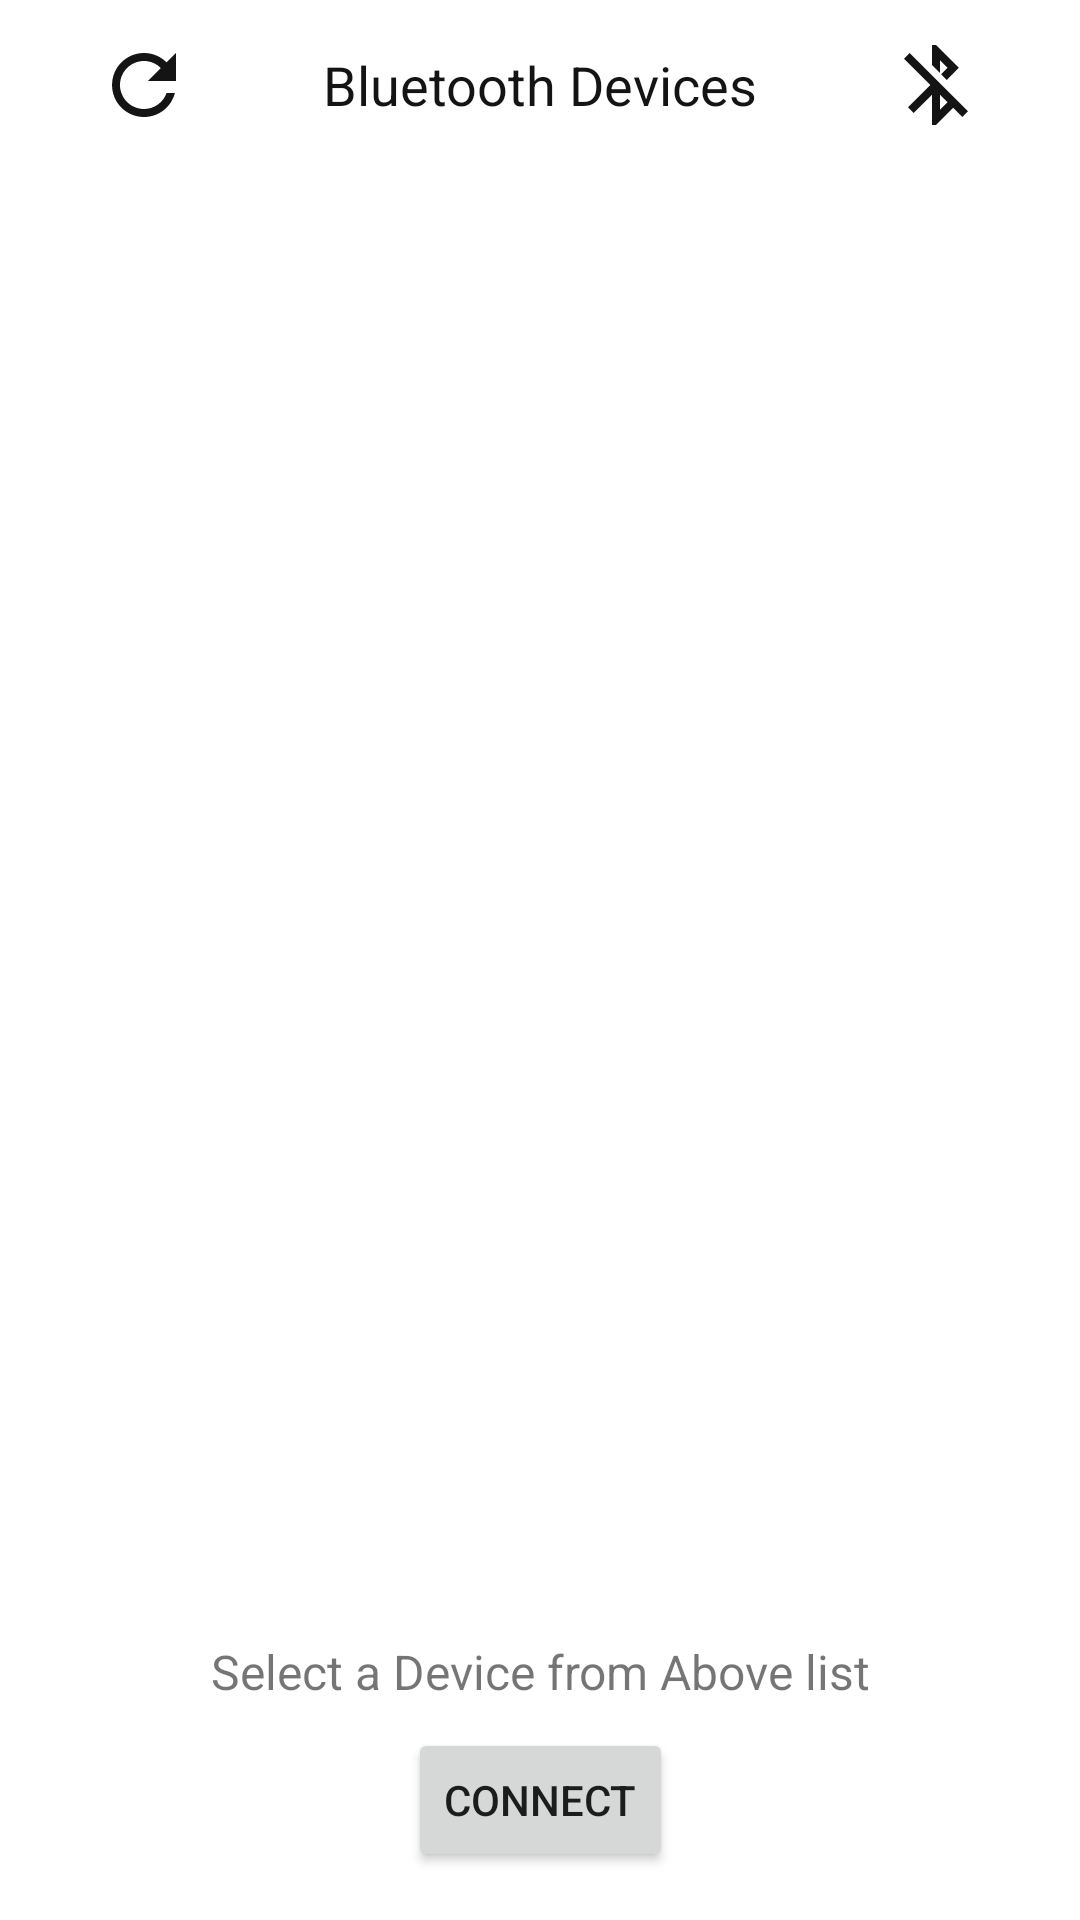

Icons on this 1080px×1920px Android screen, each with its box as {"left": x1, "top": y1, "right": x2, "bottom": y2}:
refresh: {"left": 112, "top": 53, "right": 176, "bottom": 117}
